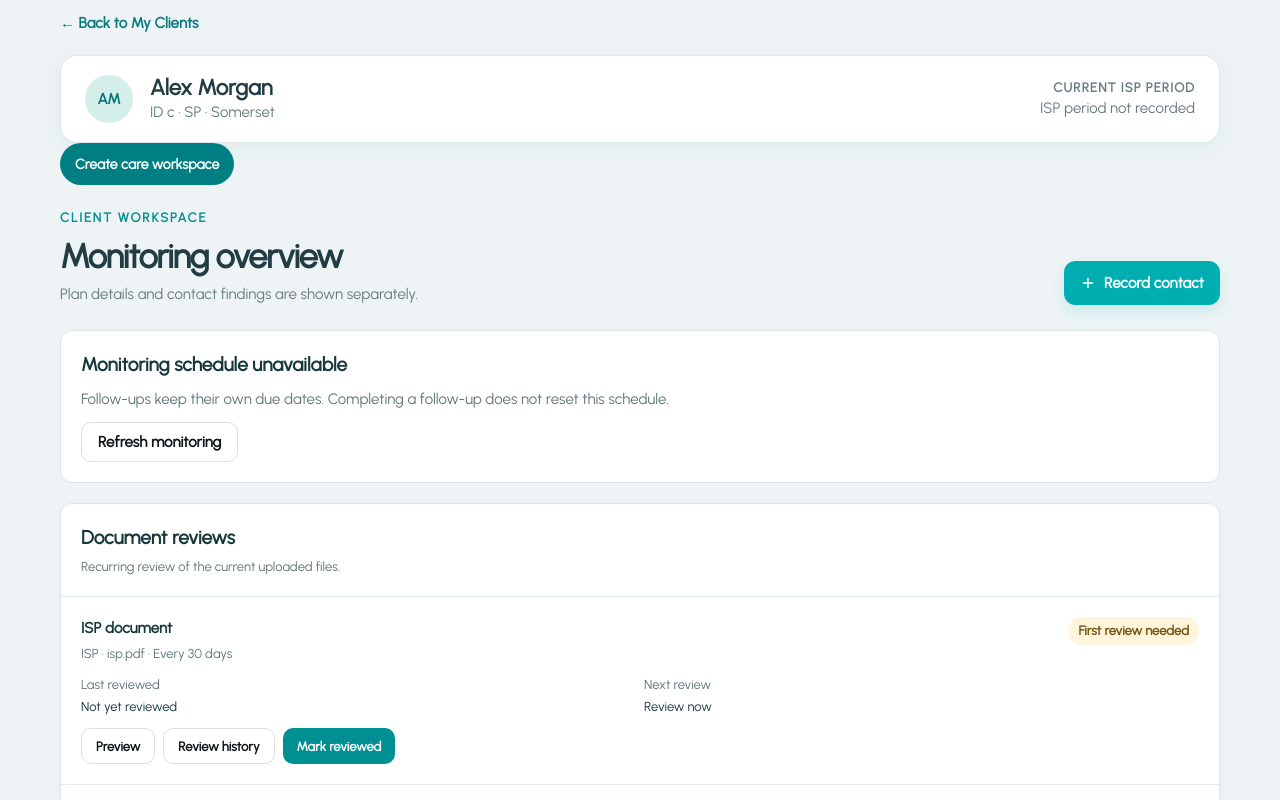
refreshes the monitoring workspace after an explicit document review
Click the button with aria-label "Mark ISP document reviewed": (339, 746) [283,728,395,764]
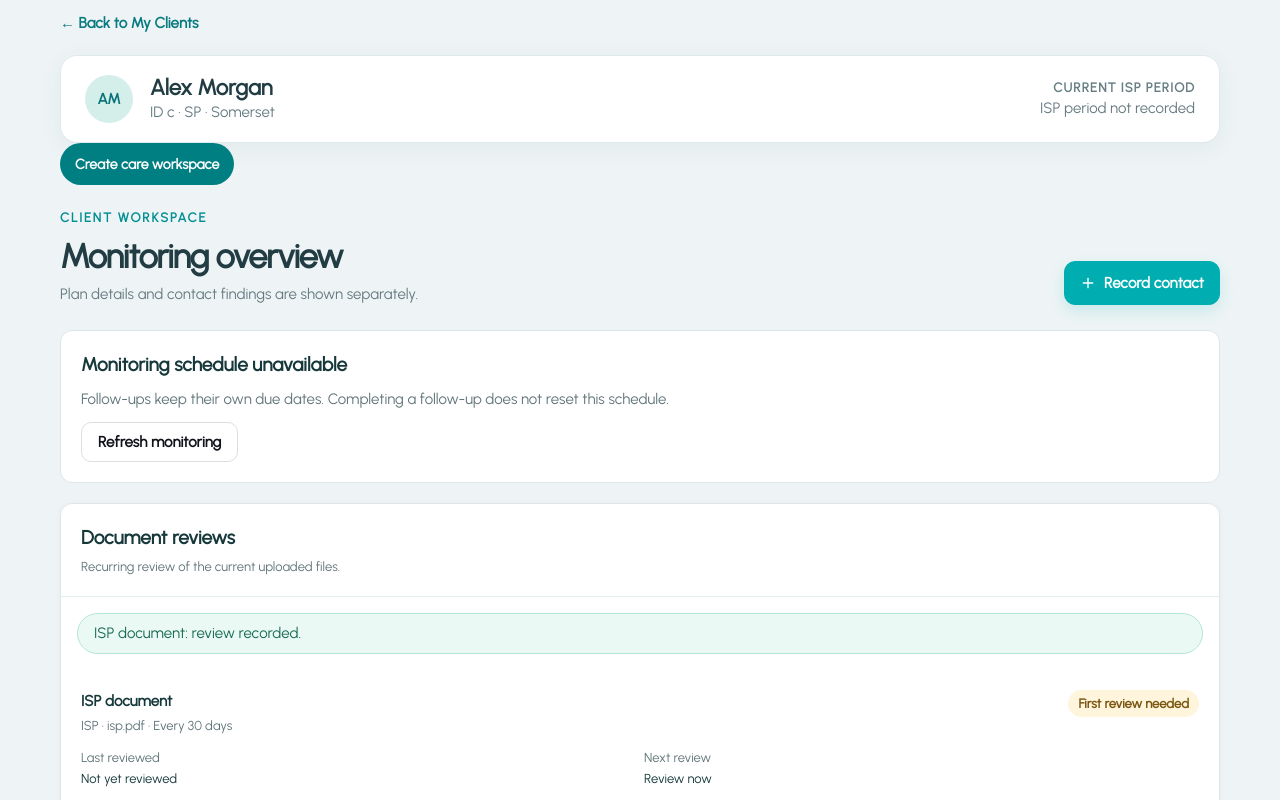
expect the text "ISP document: review recorded." is shown: met, box [77,614,1203,654]
